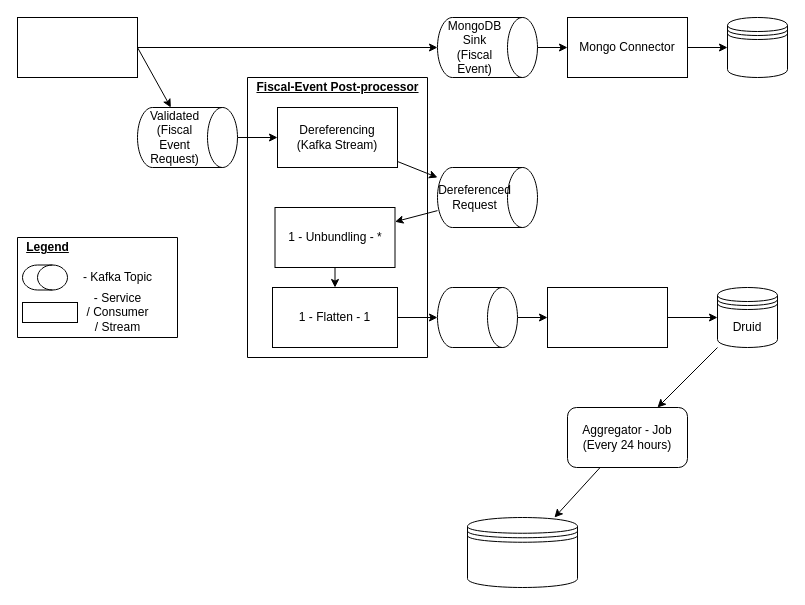
The diagram is 805 pixels wide and 605 high, and some of its shapes have lost their labels. The shapes that lost their labels are listed below. From the top down, each one's centre as x and y in pixels, then its label:
(x=77, y=47): Fiscal Event Service - Validate UUIDs of master data - Normalize
(x=757, y=47): Mongo
(x=477, y=317): Druid Sink
(x=607, y=317): Druid Connector
(x=522, y=552): PostgreSQL
